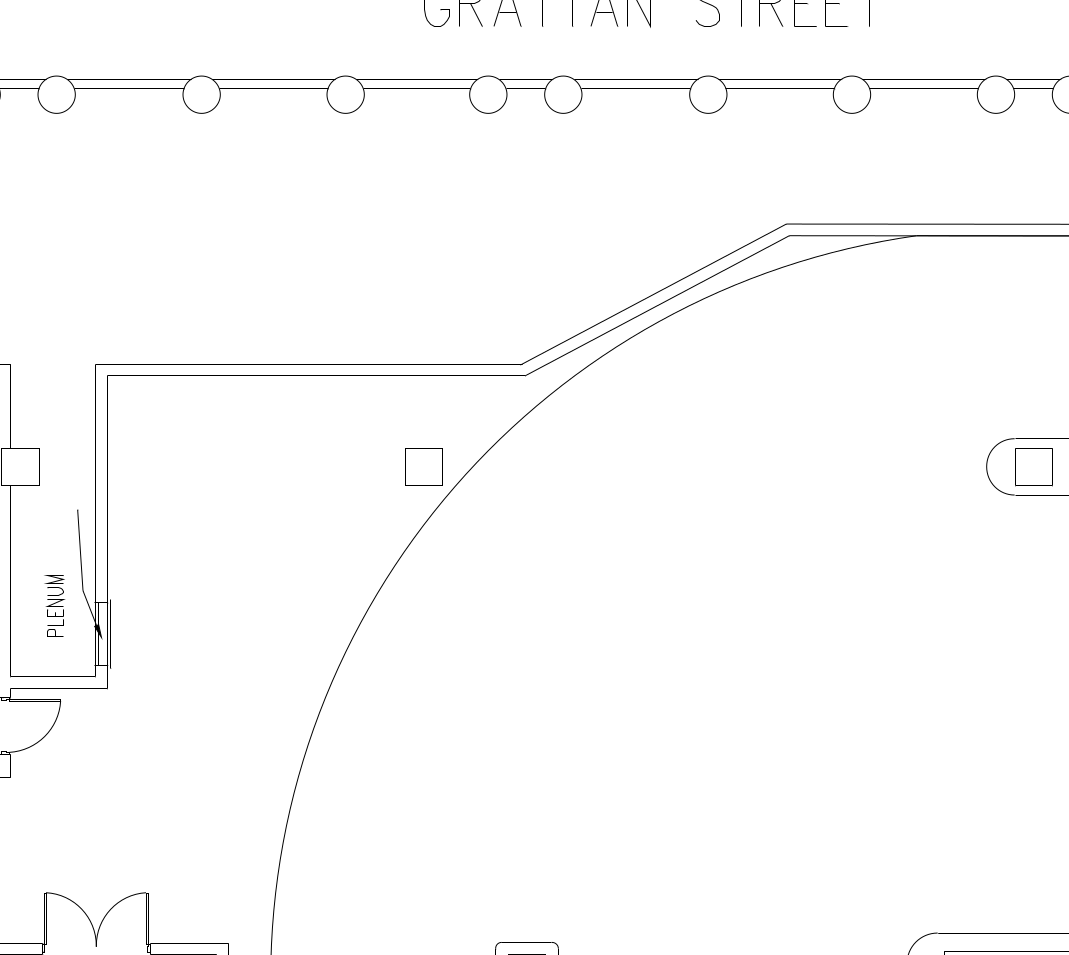door: (38, 879, 156, 943), (7, 693, 68, 758)
